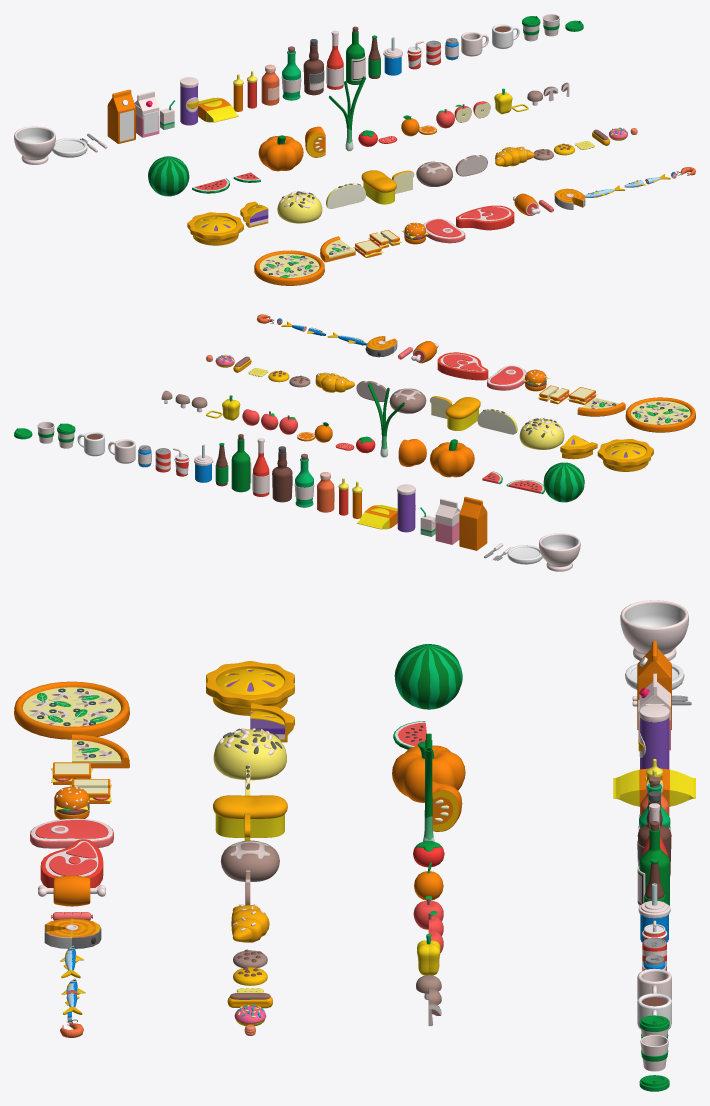
File: food2.glb
3 views of the same model, one above another, from view 1: azimuth 30°, elevation 25°; view 2: azimuth 150°, elevation 25°; view 3: azimuth 270°, elevation 25° (orthographic). The views are drawn at different scales.
Parts seen in each view (by area): view 1: Pizza, Pie, Carton_Box_1, Watermelon, Bowl, Pumpkin, Bread_1, Meat_Steak_2, Carton_Box_2, Bread_2, Bottle_3, Chips_2 (+22 smaller); view 2: Pizza, Pie, Carton_Box_1, Watermelon, Pumpkin, Bowl, Bread_1, Meat_Steak_2, Carton_Box_2, Bread_2, Bottle_5, Bottle_3 (+22 smaller); view 3: Pizza, Pie, Watermelon, Bowl, Bread_1, Bread_2, Pumpkin, Meat_Steak_2, Meat_Steak_1, Chips_1, Bread_3, Chips_2 (+18 smaller).
Part boxes in pixels (bbox=[...]): Pizza: bbox=[254, 250, 324, 285]; Pie: bbox=[187, 212, 243, 245]; Carton_Box_1: bbox=[107, 89, 135, 143]; Watermelon: bbox=[148, 156, 189, 196]; Bowl: bbox=[14, 126, 55, 164]; Pumpkin: bbox=[258, 135, 303, 171]; Bread_1: bbox=[277, 191, 322, 223]; Meat_Steak_2: bbox=[456, 205, 514, 230]; Carton_Box_2: bbox=[134, 91, 159, 137]; Bread_2: bbox=[361, 170, 396, 204]; Bottle_3: bbox=[303, 39, 324, 95]; Chips_2: bbox=[180, 77, 198, 125]; Pizza: bbox=[625, 397, 695, 432]; Pie: bbox=[597, 439, 653, 471]; Carton_Box_1: bbox=[459, 496, 487, 550]; Watermelon: bbox=[543, 462, 584, 502]; Pumpkin: bbox=[430, 439, 474, 477]; Bowl: bbox=[539, 533, 580, 571]; Bread_1: bbox=[519, 417, 564, 449]; Meat_Steak_2: bbox=[437, 352, 488, 380]; Carton_Box_2: bbox=[435, 498, 460, 544]; Bread_2: bbox=[445, 397, 480, 430]; Bottle_5: bbox=[231, 434, 251, 492]; Bottle_3: bbox=[272, 446, 292, 502]; Pizza: bbox=[14, 681, 129, 739]; Pie: bbox=[206, 661, 294, 715]; Watermelon: bbox=[394, 644, 462, 709]; Bowl: bbox=[620, 600, 688, 660]; Bread_1: bbox=[213, 728, 286, 780]; Bread_2: bbox=[213, 795, 287, 837]; Pumpkin: bbox=[392, 741, 465, 802]; Meat_Steak_2: bbox=[40, 839, 103, 887]; Meat_Steak_1: bbox=[30, 818, 113, 848]; Chips_1: bbox=[613, 768, 695, 806]; Bread_3: bbox=[220, 840, 279, 881]; Chips_2: bbox=[638, 704, 669, 769].
Size of the model in its own units: 4.79 by 0.579 by 3.06.
1 material, 1 textured.
